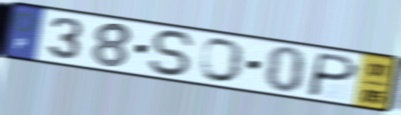0: (261, 44, 310, 95)
3: (44, 16, 87, 61)
8: (91, 21, 134, 69)
O: (199, 37, 247, 84)
P: (303, 51, 361, 99)
S: (147, 28, 199, 79)
